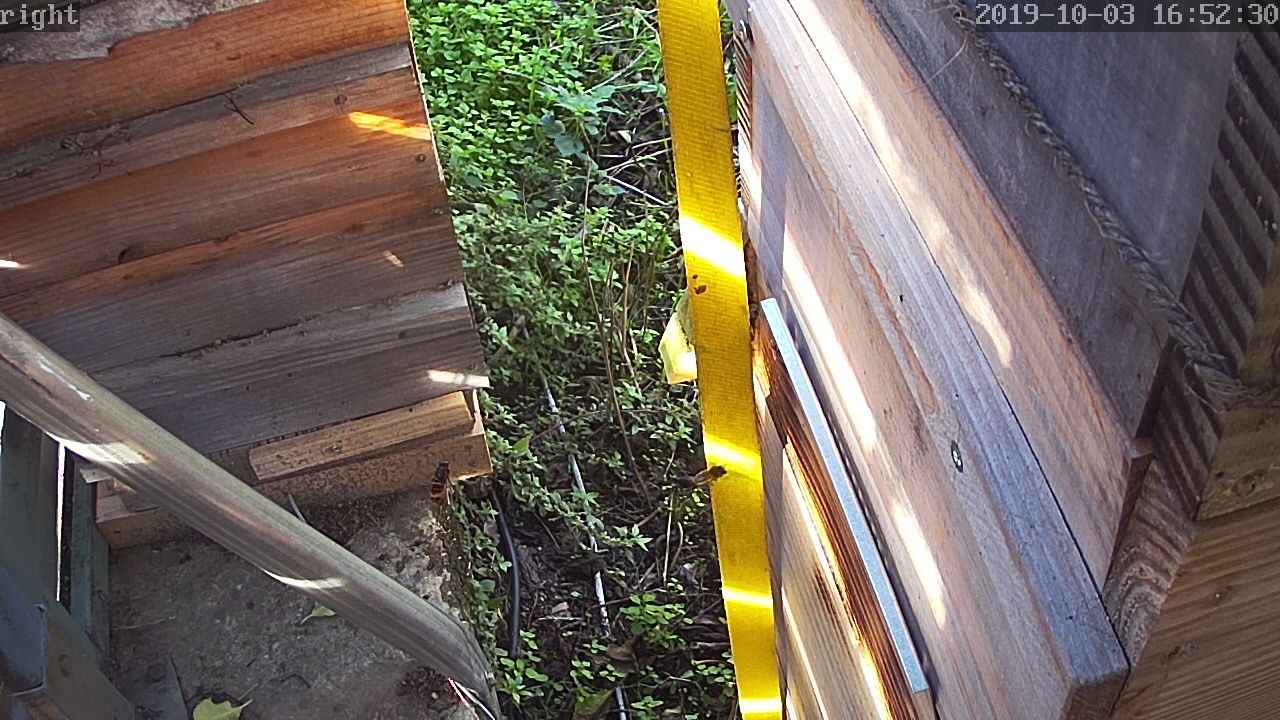bee: (689, 455, 729, 492)
hornet: (425, 456, 457, 505)
